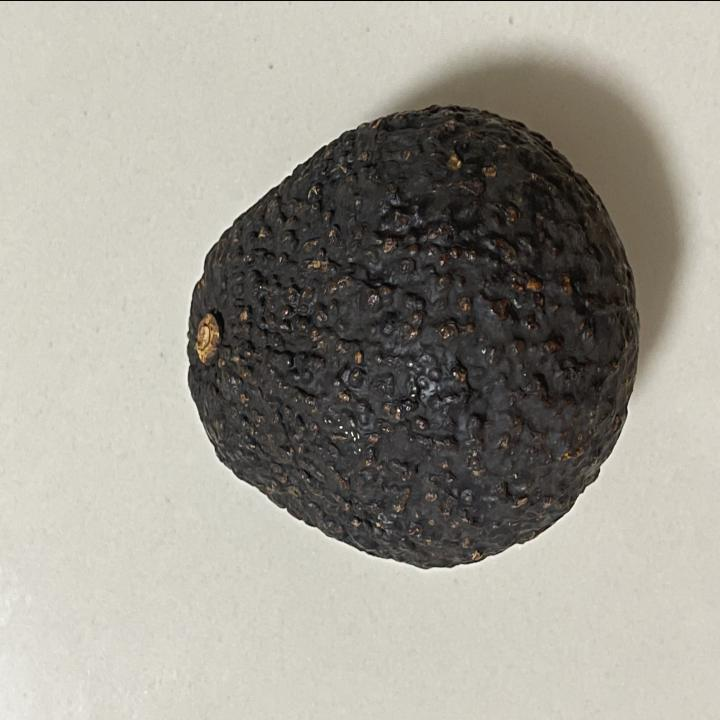Level3: (177, 93, 646, 578)
